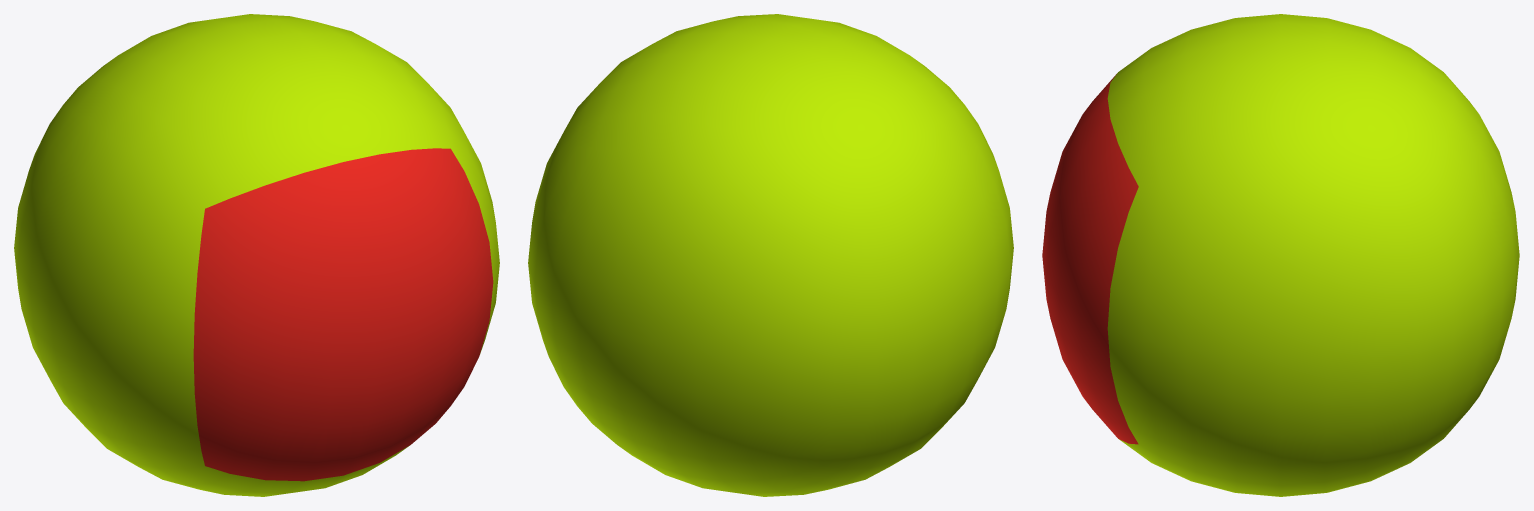
File: drone02.glb
3 views of the same model, side by side, from view 1: azimuth 30°, elevation 25°; view 2: azimuth 150°, elevation 25°; view 3: azimuth 270°, elevation 25° (orthographic).
Visible parts, largest first — view 1: Cube; view 2: Cube; view 3: Cube.
Part boxes in pixels (x1=…): Cube: x1=14, y1=14, x2=499, y2=496; Cube: x1=528, y1=14, x2=1013, y2=496; Cube: x1=1042, y1=14, x2=1519, y2=496.
Bounding box in the file's own units: 1.68 × 1.68 × 1.68.
